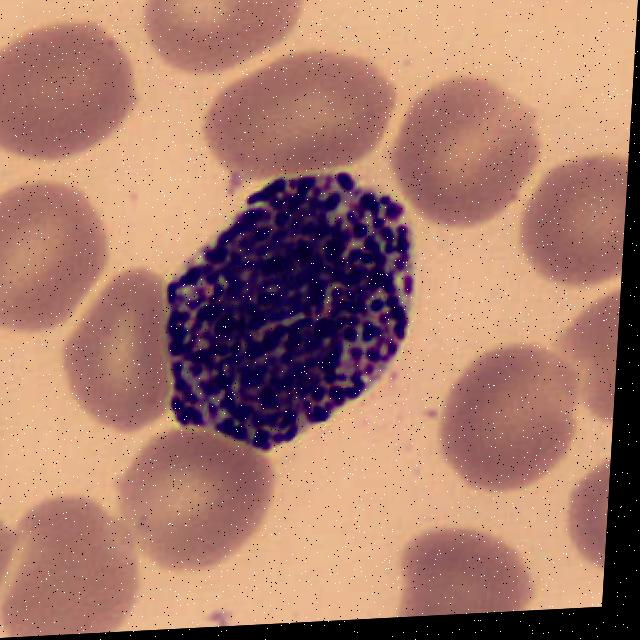basophil: (142, 165, 431, 443)
rbc: (379, 47, 550, 223), (202, 52, 407, 178), (2, 484, 156, 638), (0, 3, 151, 157), (115, 430, 275, 566), (61, 264, 179, 429), (439, 345, 574, 486), (0, 167, 117, 322), (391, 501, 543, 618), (520, 154, 629, 297), (141, 0, 316, 72), (556, 298, 620, 412), (566, 453, 611, 570), (0, 474, 28, 640), (0, 359, 9, 472)
